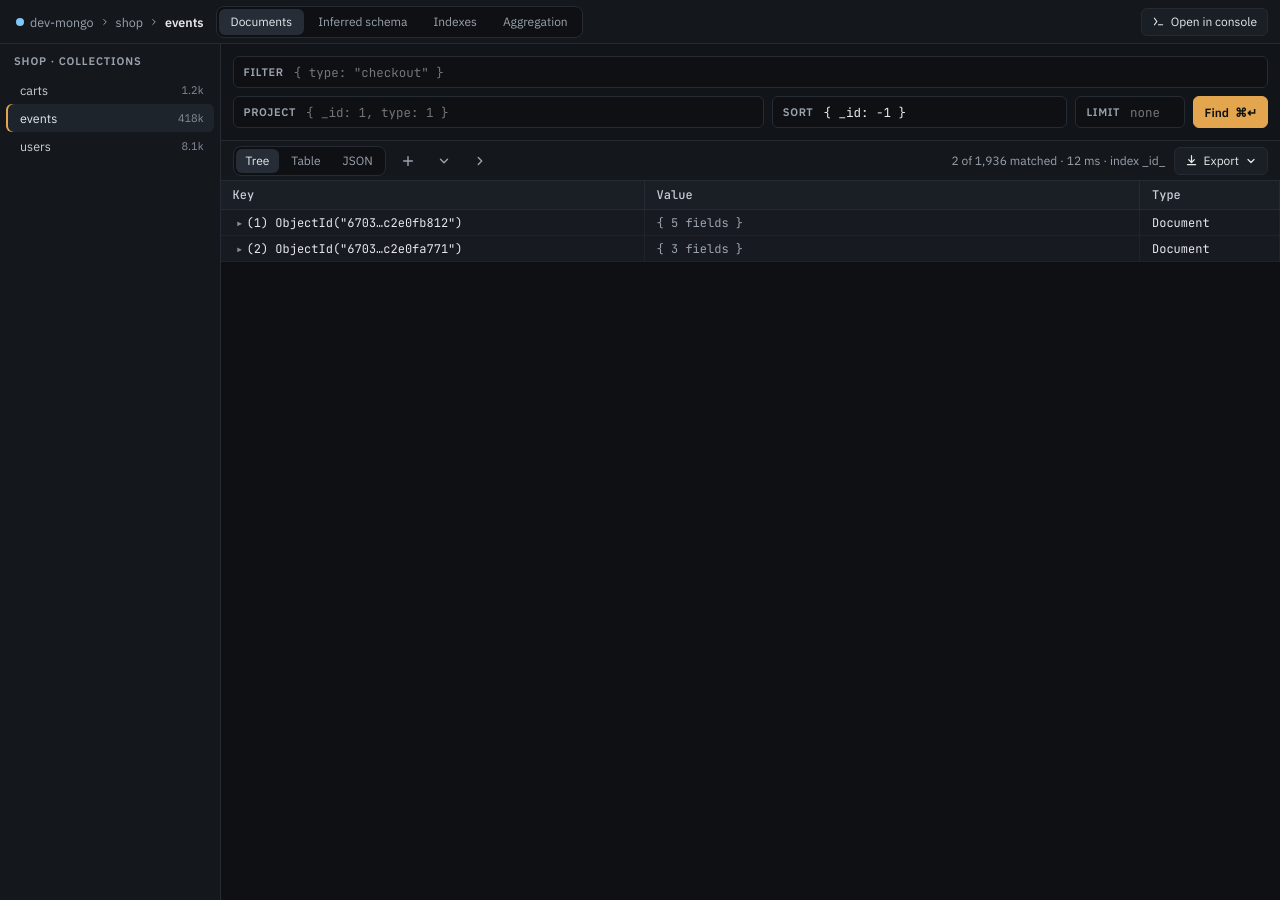
it: views › expand all opens nested objects and arrays
Check: the text "▸ (1) ObjectId(\"6703…c2e0fb812\")" is shown, box [220, 210, 644, 236]
Step 1. Click the button named "Expand all" → point(444, 160), box [430, 146, 458, 174]
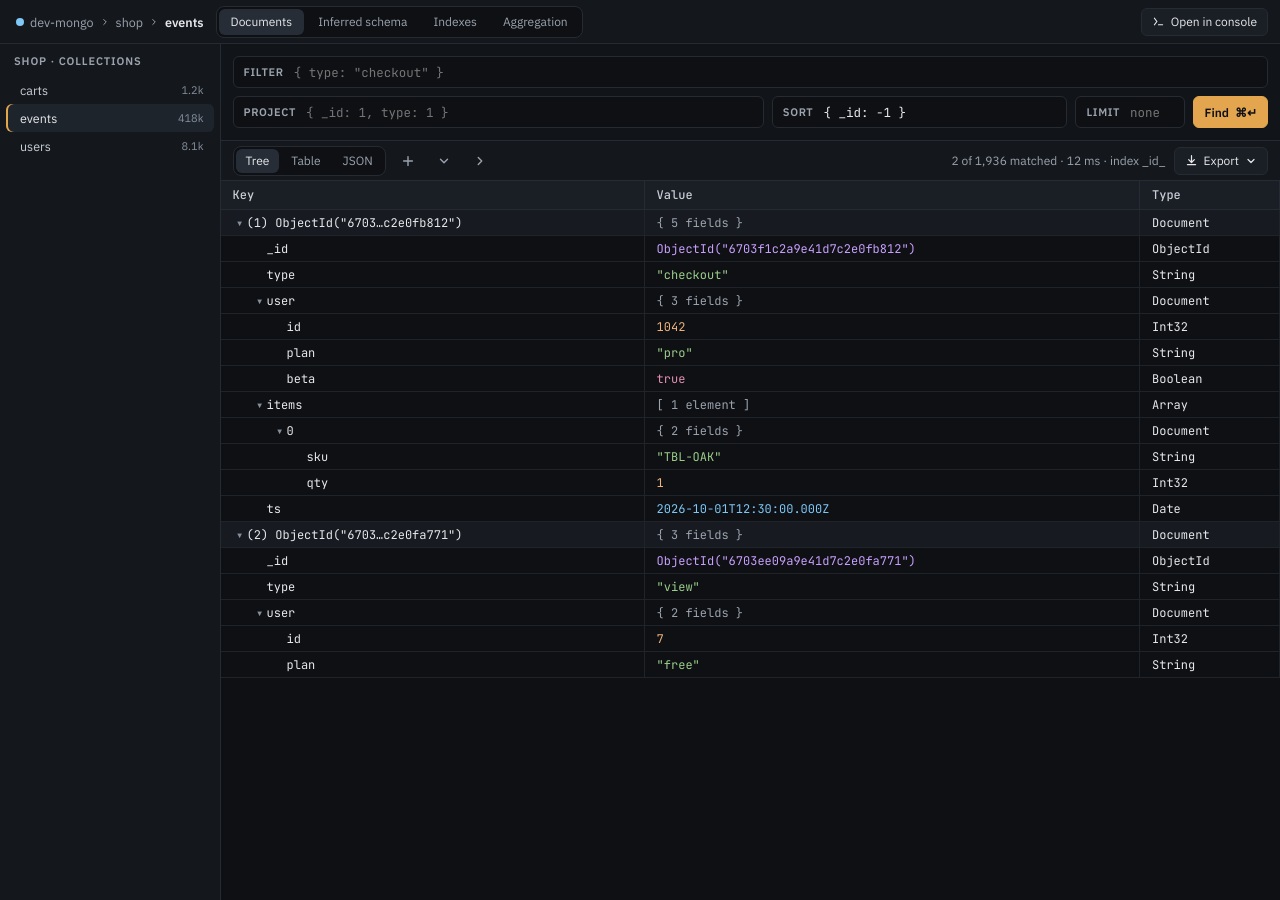
Check: the text "TBL-OAK" is shown, box [657, 448, 721, 464]
Check: the text "1042" is shown, box [657, 318, 685, 334]
Check: the text "true" is shown, box [657, 370, 685, 386]
